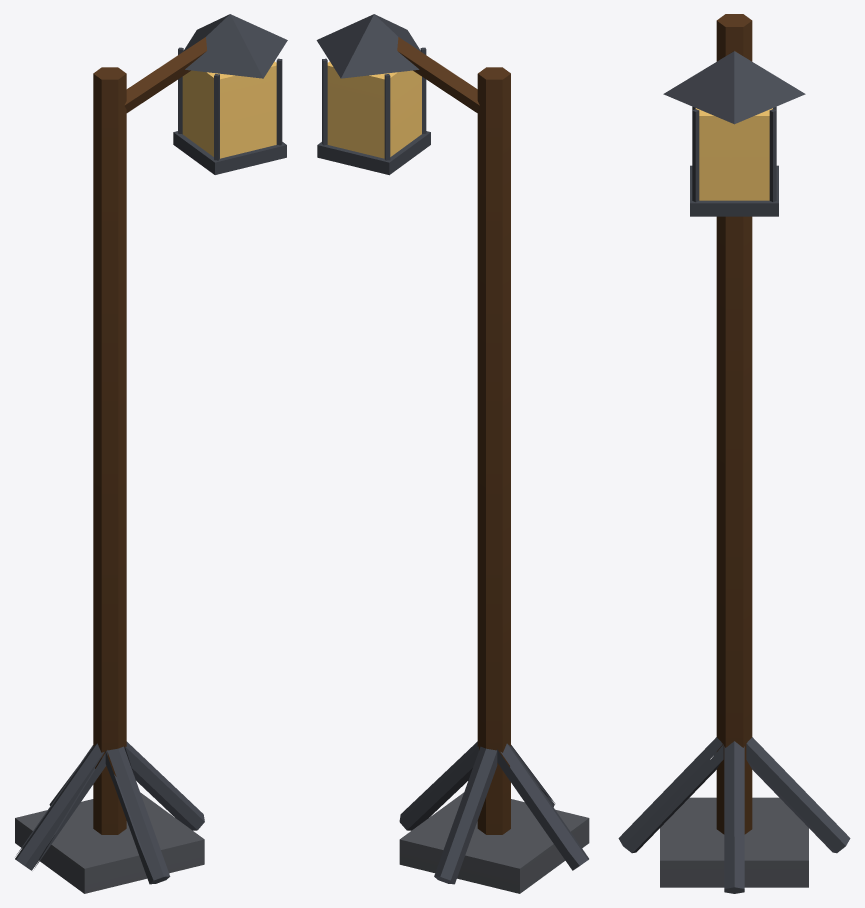
Rendered from lamp_post.glb.
The picture shows the model from 3 angles, left to right: view 1: azimuth 30°, elevation 25°; view 2: azimuth 150°, elevation 25°; view 3: azimuth 270°, elevation 25°; orthographic projection. The views are drawn at different scales.
Parts seen in each view (by area): view 1: lamp_post, lamp_post_craft; view 2: lamp_post, lamp_post_craft; view 3: lamp_post, lamp_post_craft.
Boxes of the visible parts, x1=… form: lamp_post: x1=15, y1=14, x2=287, y2=893; lamp_post_craft: x1=15, y1=741, x2=204, y2=884; lamp_post: x1=316, y1=14, x2=589, y2=893; lamp_post_craft: x1=399, y1=741, x2=588, y2=884; lamp_post: x1=660, y1=14, x2=808, y2=887; lamp_post_craft: x1=618, y1=737, x2=850, y2=893.
Size of the model in its own units: 1.13 by 3.23 by 0.7801.
